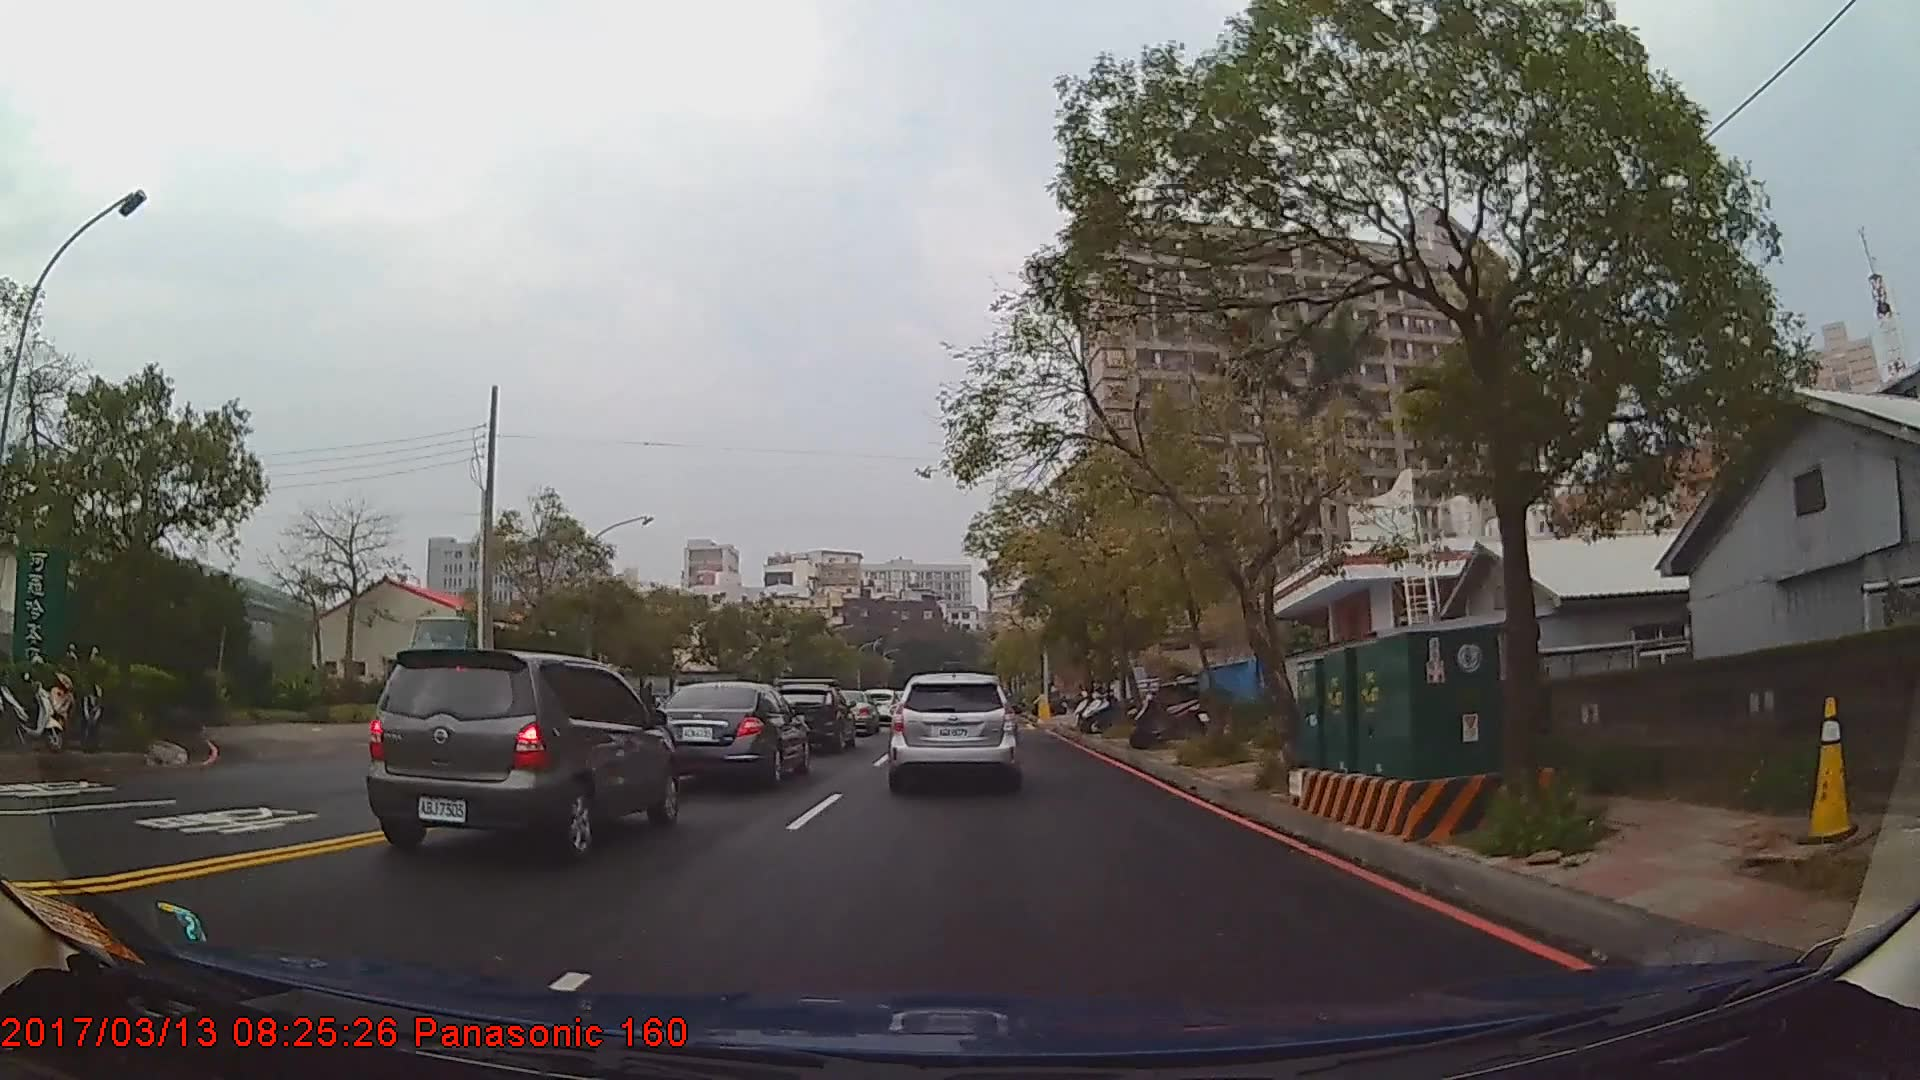vehicle: (363, 645, 680, 861), (646, 679, 812, 785), (887, 673, 1021, 790), (766, 680, 855, 750), (824, 688, 878, 735)
